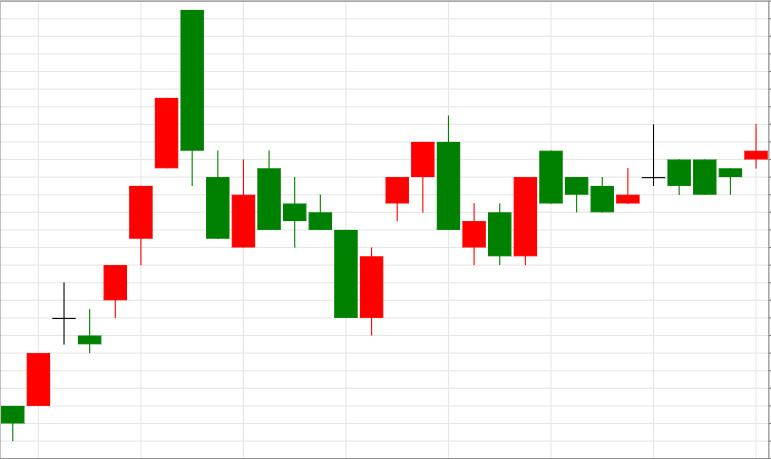bearish_engulfing_fall: (78, 9, 204, 354), (359, 115, 460, 336)
